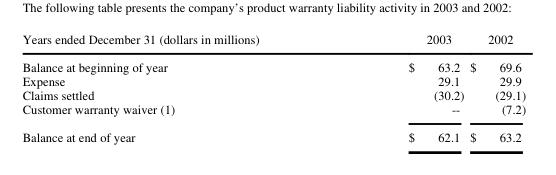table: (21, 29, 525, 144)
table column: (21, 29, 333, 144), (333, 29, 466, 144), (466, 29, 525, 144)
table column header: (21, 29, 525, 51)
table row: (21, 121, 525, 144), (21, 29, 525, 51), (21, 51, 525, 72), (21, 100, 525, 121), (21, 72, 525, 86), (21, 86, 525, 100)
